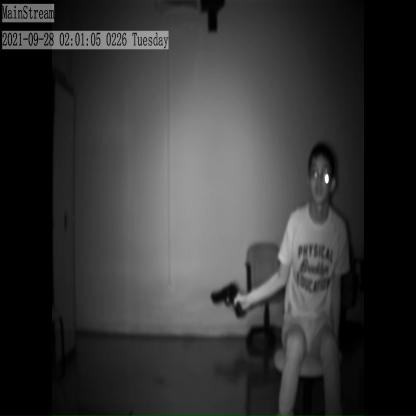weapon: (209, 278, 247, 326)
